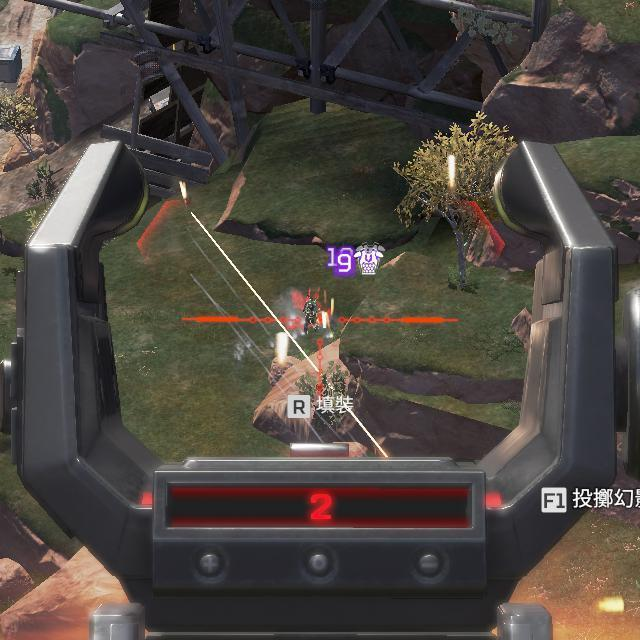avatar: (301, 295, 323, 337)
